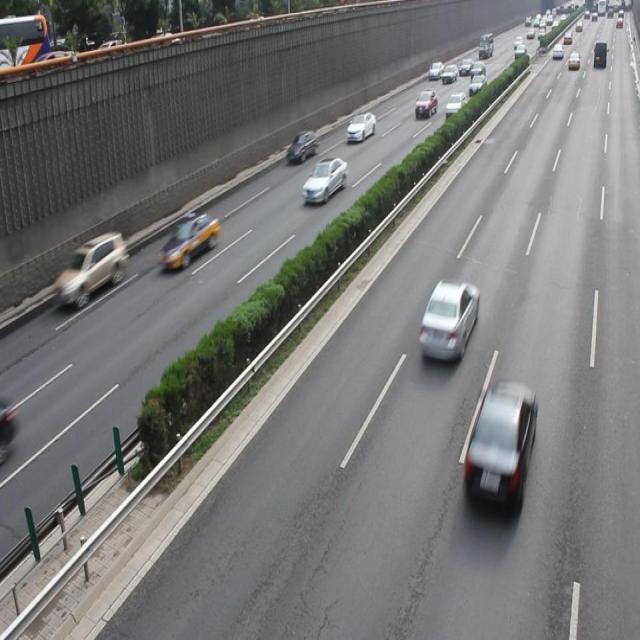car: (461, 380, 536, 511), (53, 230, 127, 310), (417, 277, 478, 363), (157, 211, 219, 271), (302, 155, 347, 203), (285, 130, 317, 162)
